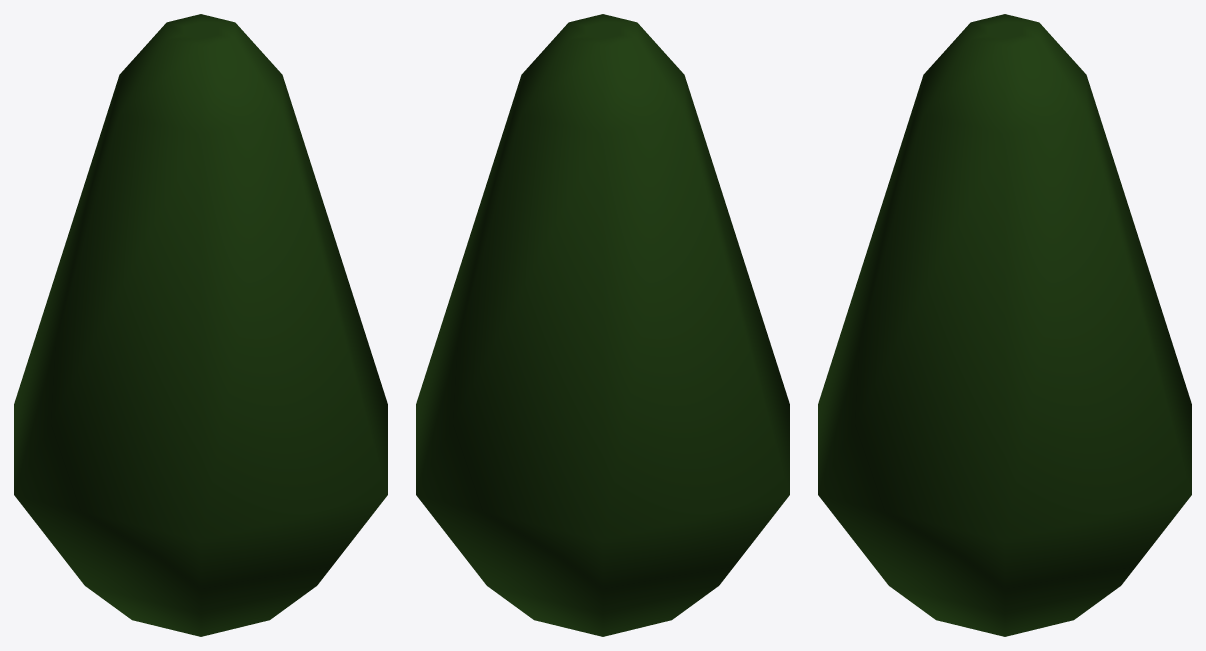
File: PropsTree2.fbx
The picture shows the model from 3 angles, left to right: view 1: azimuth 30°, elevation 25°; view 2: azimuth 150°, elevation 25°; view 3: azimuth 270°, elevation 25°; orthographic projection.
Parts seen in each view (by area): view 1: PropsTree2; view 2: PropsTree2; view 3: PropsTree2.
Part boxes in pixels (bbox=[...]): PropsTree2: bbox=[14, 14, 387, 636]; PropsTree2: bbox=[416, 14, 789, 636]; PropsTree2: bbox=[818, 14, 1191, 636].
Bounding box in the file's own units: 2.12 × 3.11 × 1.84.
